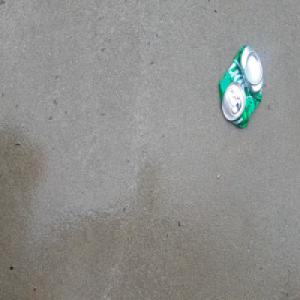SodaCan: (218, 42, 265, 129)
